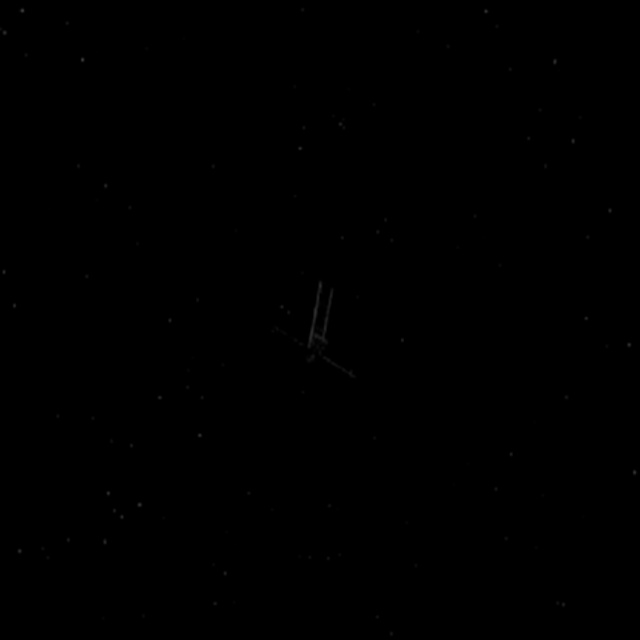medium_debris: (259, 271, 365, 392)
